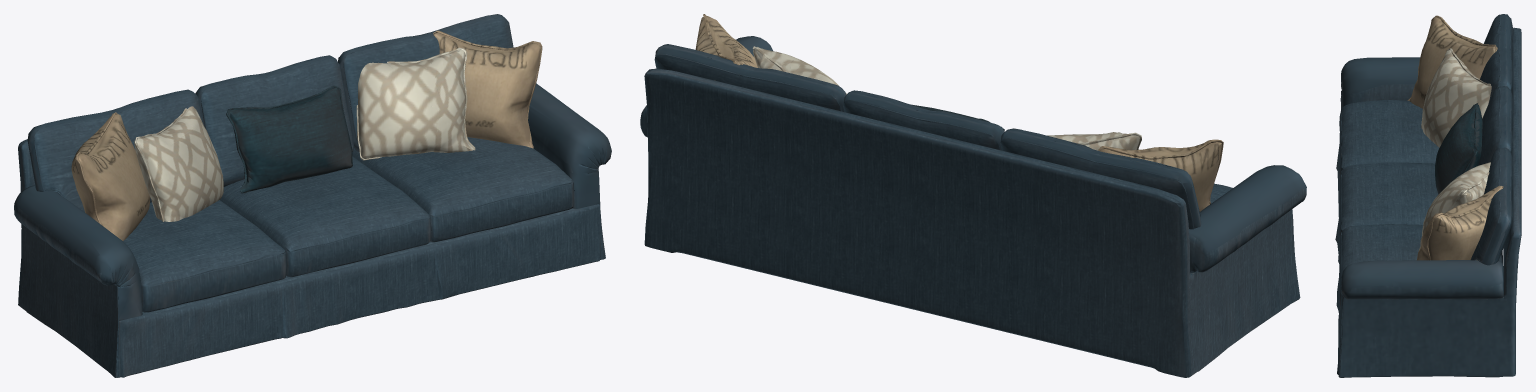
File: raw_model.obj
3 views of the same model, side by side, from view 1: azimuth 30°, elevation 25°; view 2: azimuth 150°, elevation 25°; view 3: azimuth 270°, elevation 25° (orthographic). The views are drawn at different scales.
Visible parts, largest first — view 1: solid_002, solid_001, solid_004, solid_003; view 2: solid_002, solid_004, solid_001; view 3: solid_002, solid_004, solid_001, solid_003.
Boxes of the visible parts, x1=… form: solid_002: x1=14, y1=14, x2=611, y2=377; solid_001: x1=134, y1=47, x2=475, y2=221; solid_004: x1=71, y1=30, x2=542, y2=240; solid_003: x1=226, y1=85, x2=352, y2=193; solid_002: x1=640, y1=36, x2=1306, y2=377; solid_004: x1=695, y1=14, x2=1223, y2=211; solid_001: x1=752, y1=46, x2=1141, y2=179; solid_002: x1=1335, y1=14, x2=1521, y2=377; solid_004: x1=1407, y1=15, x2=1503, y2=260; solid_001: x1=1419, y1=48, x2=1491, y2=250; solid_003: x1=1435, y1=103, x2=1482, y2=194.
Bounding box in the file's own units: 2.26 × 0.7565 × 0.7998.
Materials: 1 (1 with a texture image).
